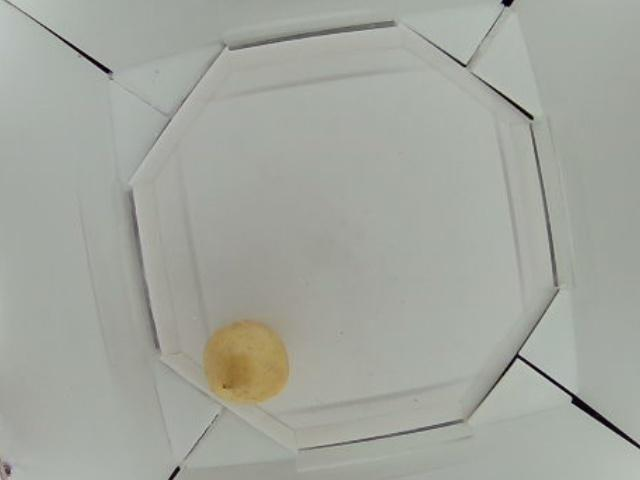Potato: (211, 320, 288, 404)
